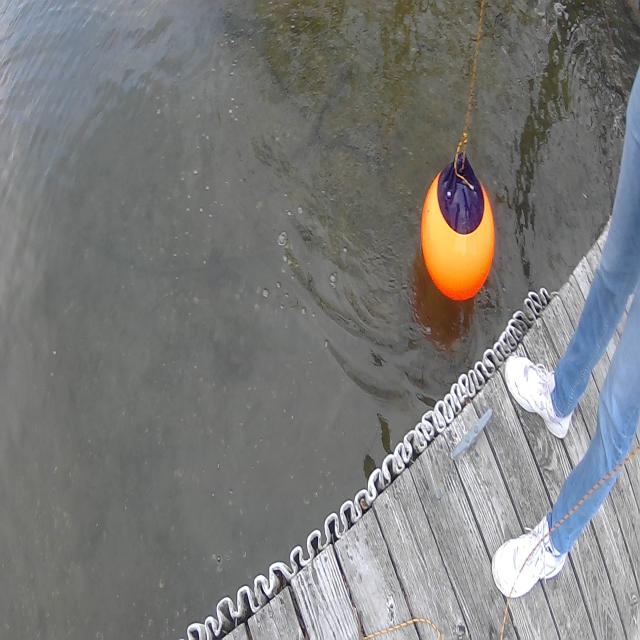Buoy: (415, 150, 499, 309)
